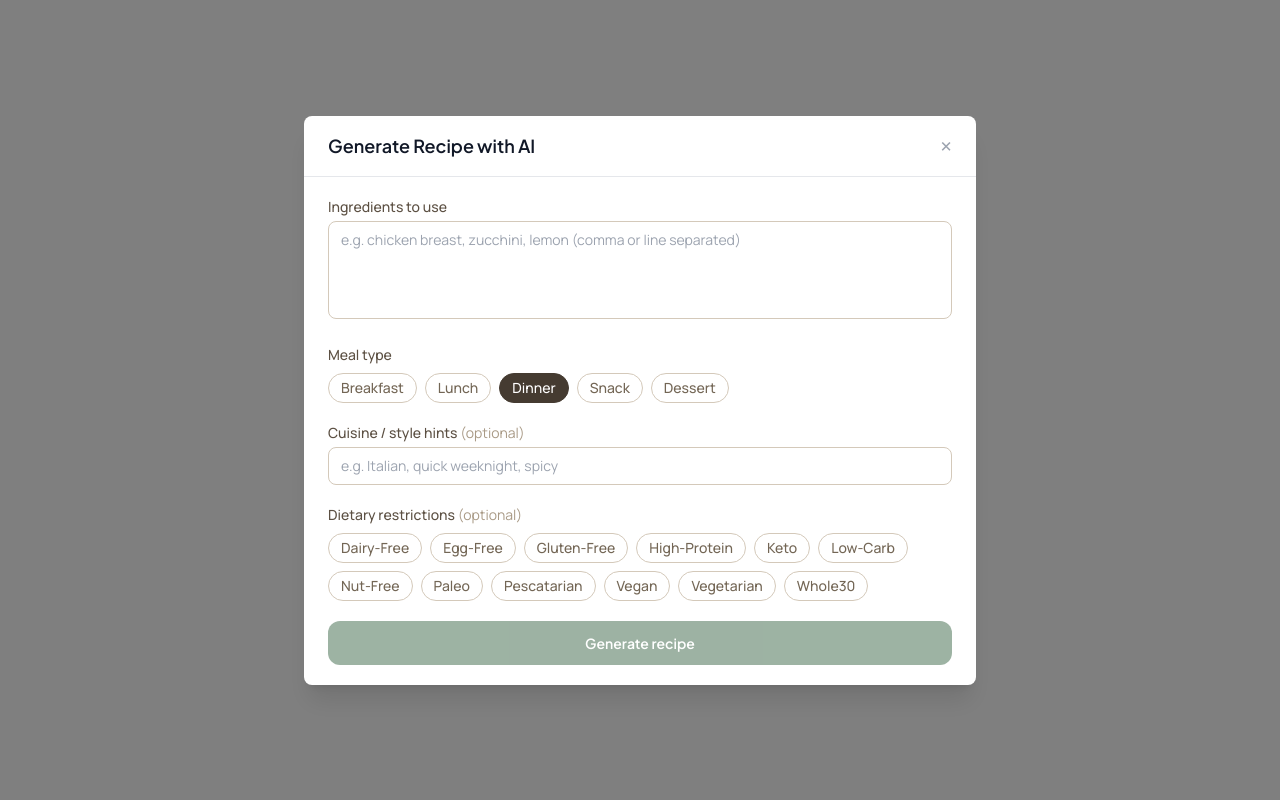
Scenario: T19 - Use this recipe transitions to finalized step › shows RecipeForm after clicking Use this recipe
Replace the text in the text box with placeholder "e.g. chicken breast" with "chicken breast". click: (640, 270)
box: [328, 220, 952, 318]
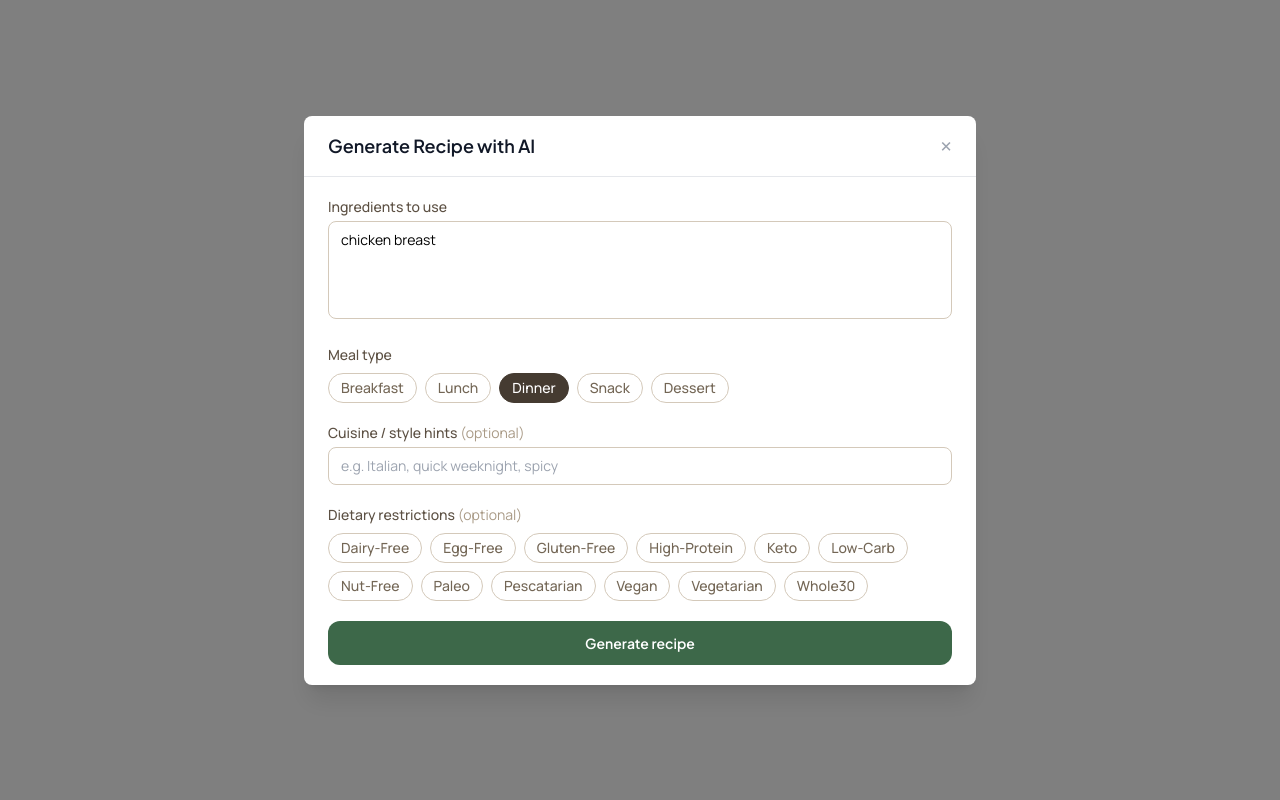
Click the button "Generate recipe". click: (640, 642)
box: [328, 620, 952, 664]
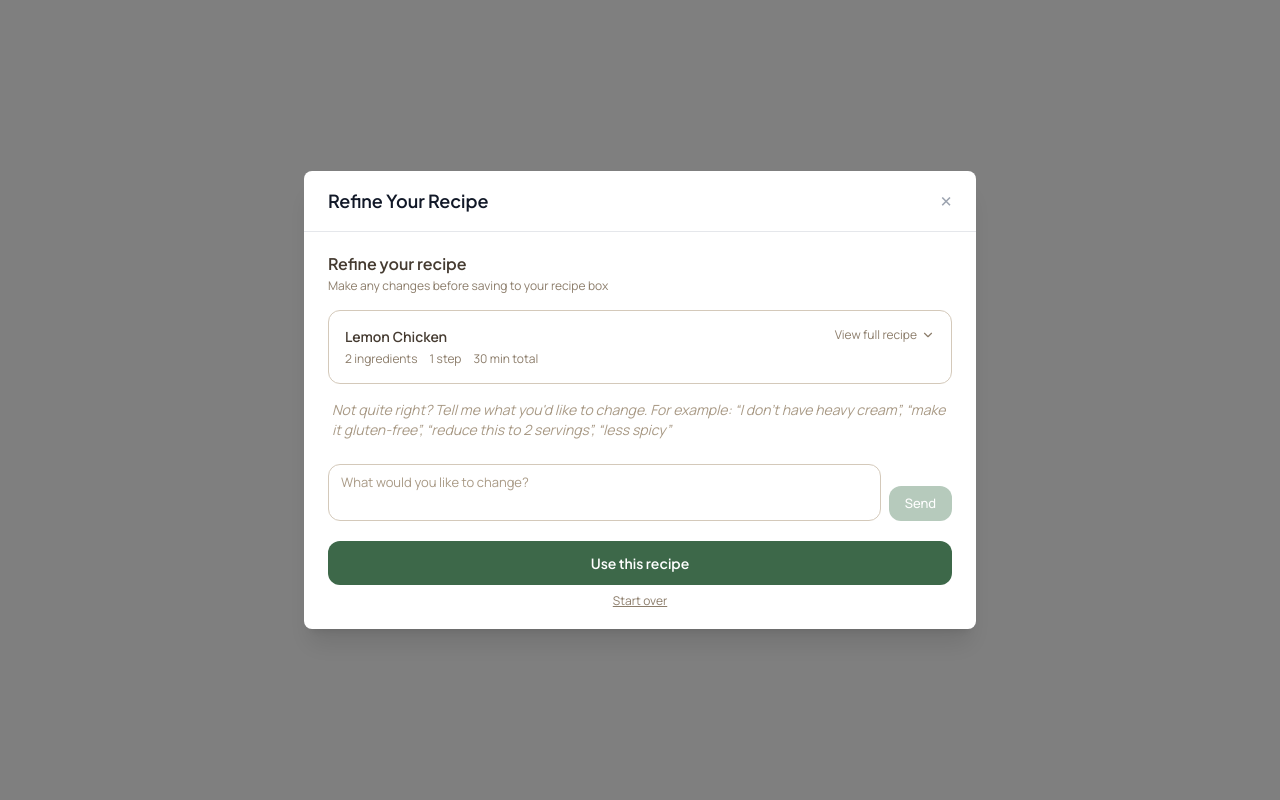
Now the button "Use this recipe" is shown
Click the button "Use this recipe". click: (640, 563)
box: [328, 541, 952, 585]
(page scrolled)
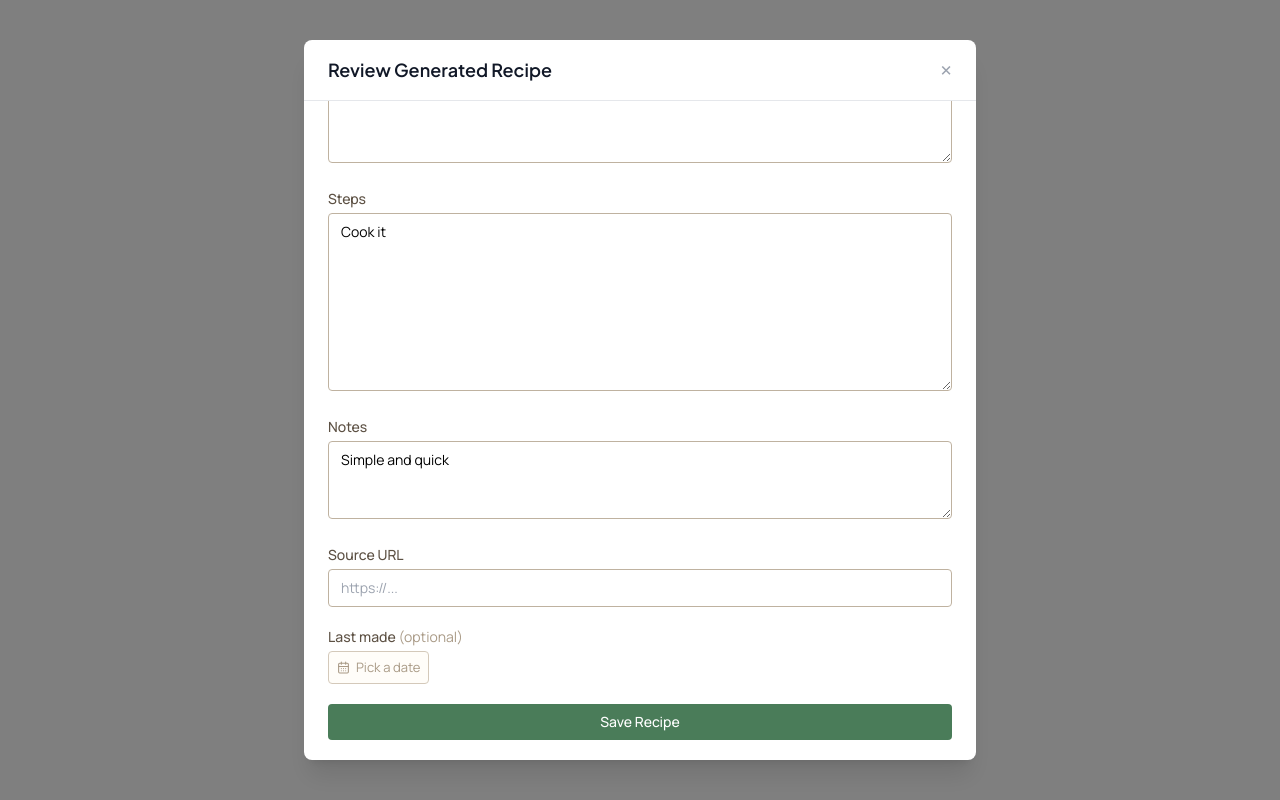
Now the button "Save Recipe" is shown, box [328, 704, 952, 740]
